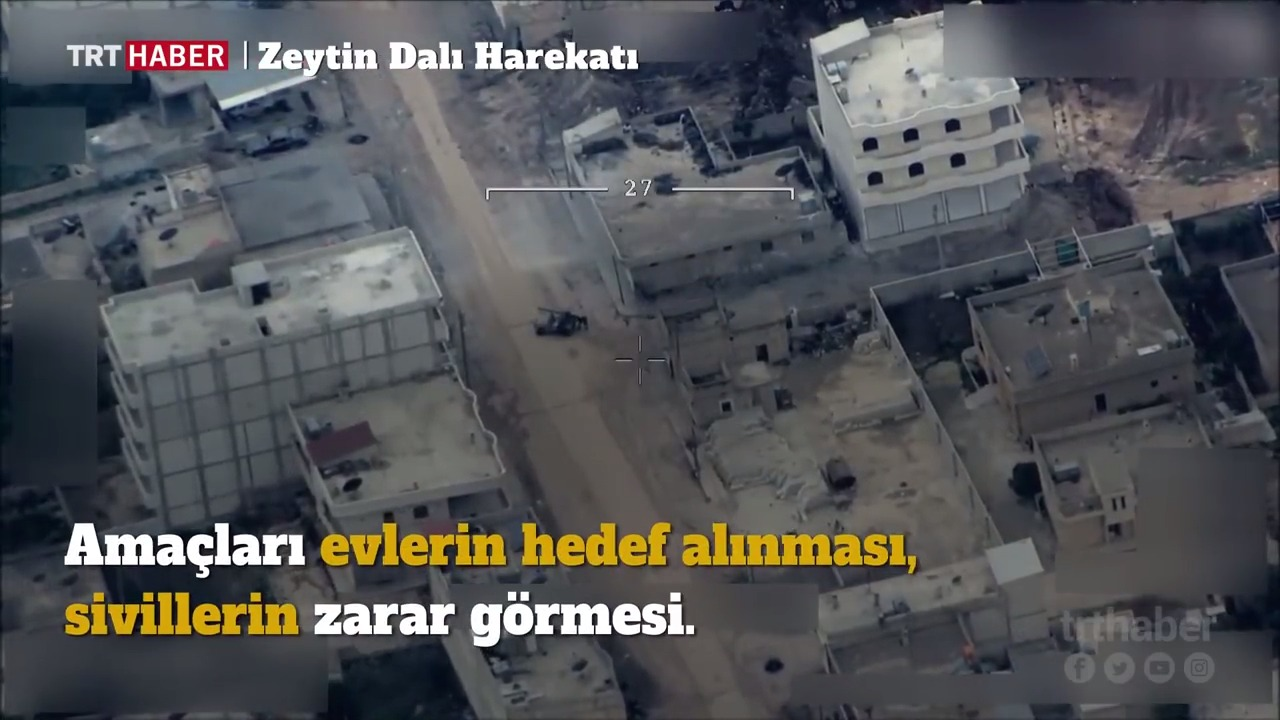arac: (242, 112, 321, 162), (530, 296, 581, 342), (222, 89, 283, 116)
bina: (110, 228, 452, 523), (815, 4, 1034, 246), (559, 101, 834, 287), (284, 380, 549, 557), (975, 252, 1185, 433)
insan: (578, 299, 593, 340)
